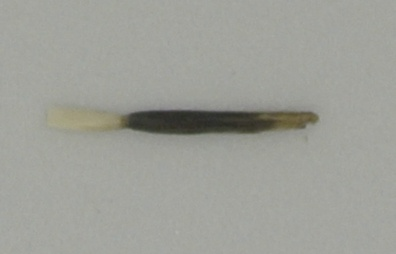เมล็ดงอกแตก: (43, 104, 324, 137)
